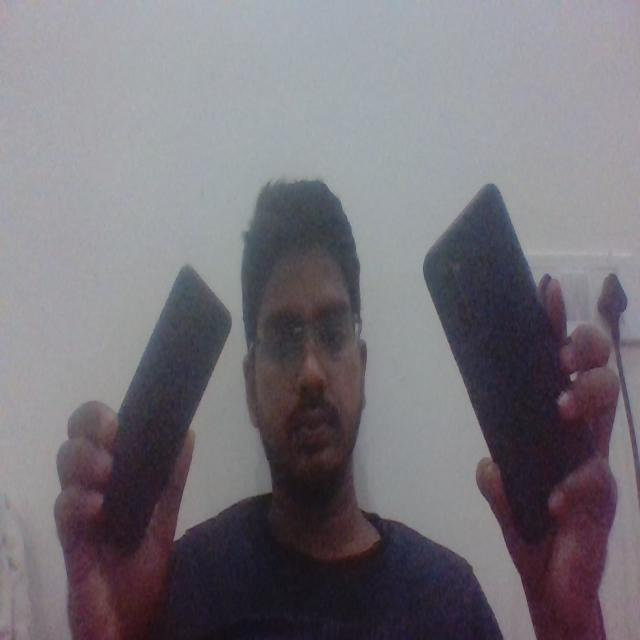Phone: (418, 178, 593, 552), (86, 260, 235, 574)
